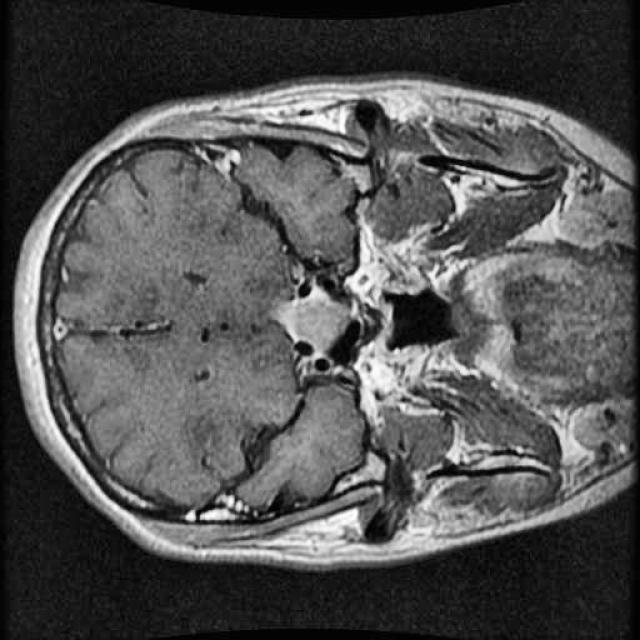Tumor: (275, 286, 355, 358)
